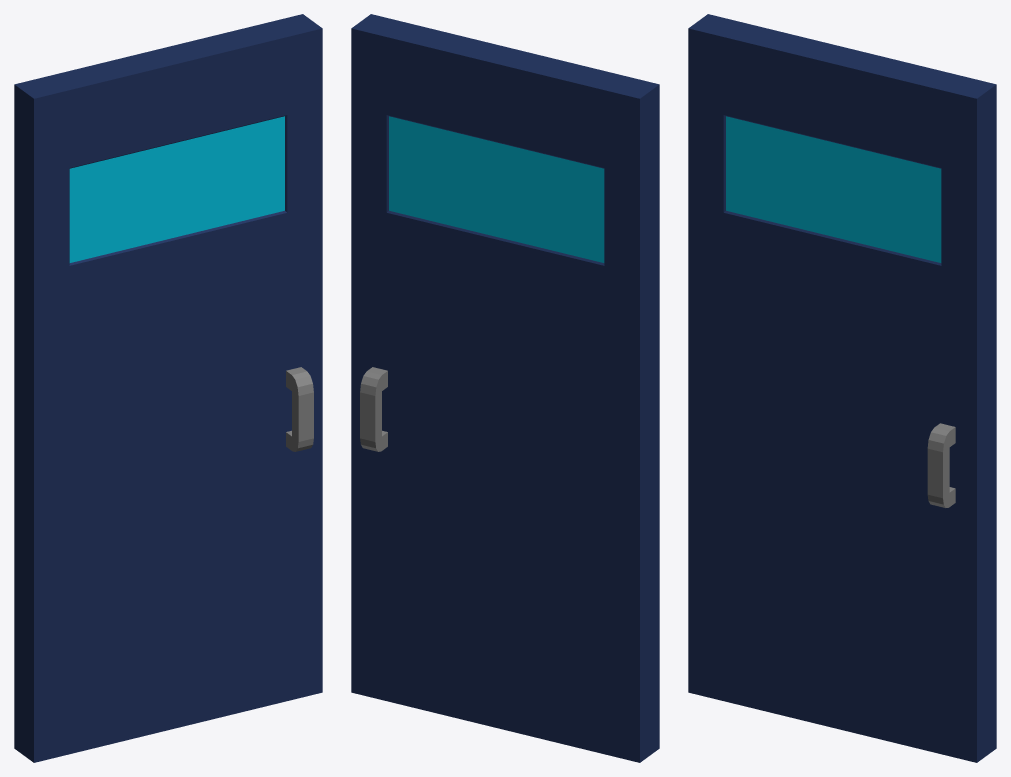
The model's file is Door.fbx.
3 renders of one model, left to right at view 1: azimuth 30°, elevation 25°; view 2: azimuth 150°, elevation 25°; view 3: azimuth 330°, elevation 25°, orthographic.
Visible parts, largest first — view 1: Cube; view 2: Cube; view 3: Cube.
Part boxes in pixels (x1,y1,x2,y2): Cube: (14, 14, 322, 762); Cube: (351, 14, 659, 762); Cube: (688, 14, 996, 762).
Bounding box in the file's own units: 265 × 582 × 71.37.
